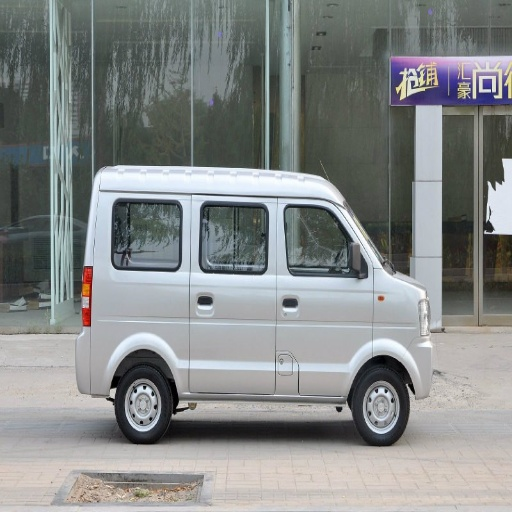back_right_door: (181, 198, 278, 391), (113, 196, 174, 242)
trunk: (73, 285, 185, 394)
